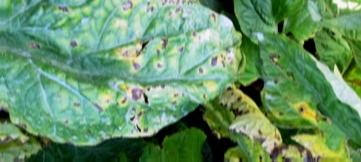Tomato Early blight leaf: (6, 0, 246, 147)
